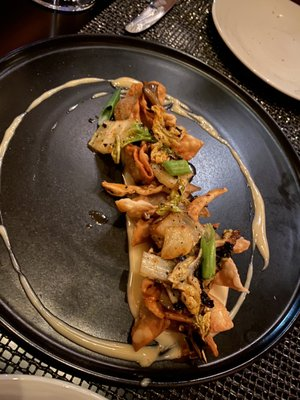curry: (1, 0, 299, 384)
